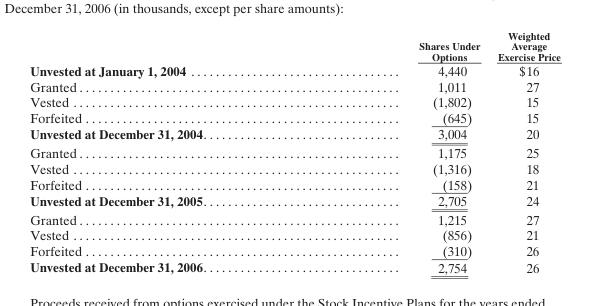table: (29, 29, 559, 274)
table column: (29, 29, 311, 274), (311, 29, 488, 274), (488, 29, 559, 274)
table column header: (29, 29, 559, 62)
table row: (29, 29, 559, 62), (29, 125, 559, 143), (29, 143, 559, 160), (29, 192, 559, 209), (29, 209, 559, 226), (29, 62, 559, 78), (29, 93, 559, 109), (29, 109, 559, 125), (29, 160, 559, 176), (29, 176, 559, 192), (29, 226, 559, 242), (29, 242, 559, 258), (29, 258, 559, 274), (29, 78, 559, 93)
